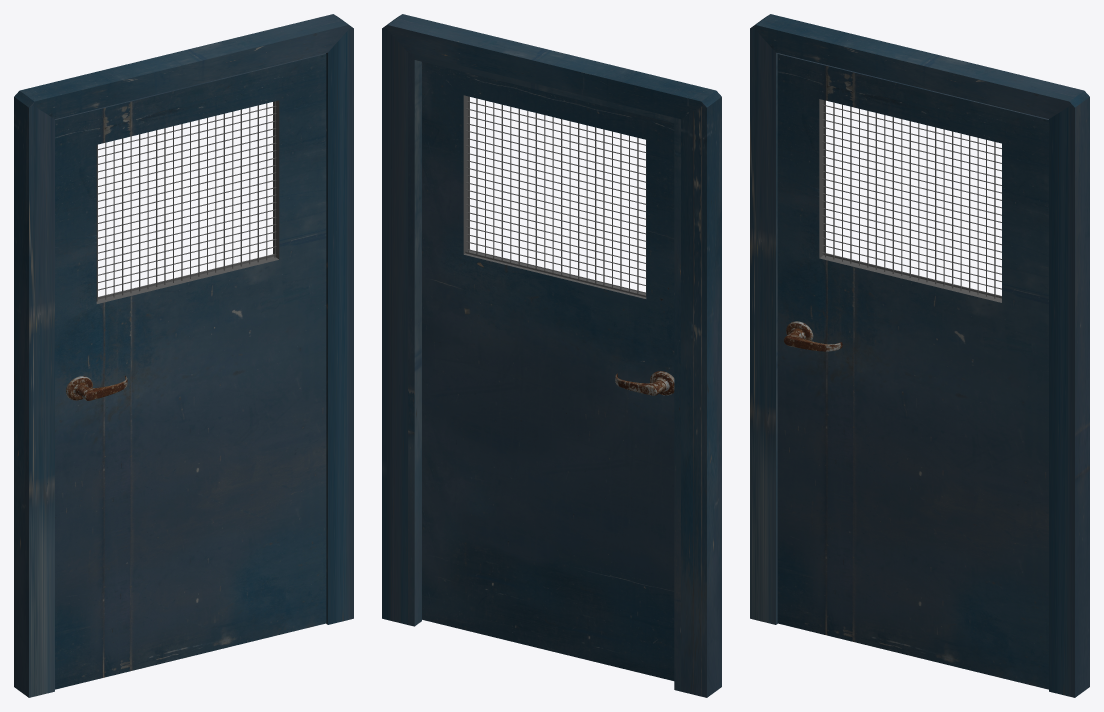
Rendered from door.glb.
The picture shows the model from 3 angles, left to right: view 1: azimuth 30°, elevation 25°; view 2: azimuth 150°, elevation 25°; view 3: azimuth 330°, elevation 25°; orthographic projection.
Visible parts, largest first — view 1: Door_Material_0.001, DoorFrame_Material_0.001, Door_Material.001_0.001, Door_Rust_0.001; view 2: Door_Material_0.001, DoorFrame_Material_0.001, Door_Material.001_0.001, Door_Rust_0.001; view 3: Door_Material_0.001, DoorFrame_Material_0.001, Door_Material.001_0.001, Door_Rust_0.001.
Boxes of the visible parts, <box> form: Door_Material_0.001: <box>55,53,326,689</box>; DoorFrame_Material_0.001: <box>14,14,353,697</box>; Door_Material.001_0.001: <box>96,100,279,303</box>; Door_Rust_0.001: <box>66,376,127,400</box>; Door_Material_0.001: <box>422,62,674,680</box>; DoorFrame_Material_0.001: <box>382,14,721,697</box>; Door_Material.001_0.001: <box>463,95,646,298</box>; Door_Rust_0.001: <box>615,371,674,395</box>; Door_Material_0.001: <box>777,53,1048,689</box>; DoorFrame_Material_0.001: <box>750,14,1089,697</box>; Door_Material.001_0.001: <box>819,99,1001,302</box>; Door_Rust_0.001: <box>784,321,842,351</box>.
Size of the model in its own units: 1.2 by 2.1 by 0.2026.
3 materials, 2 textured.
